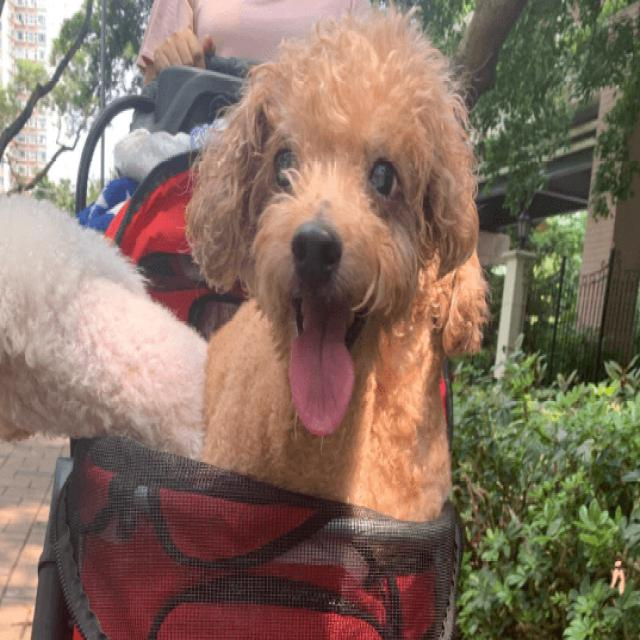eye: (366, 154, 404, 202), (270, 144, 301, 191)
